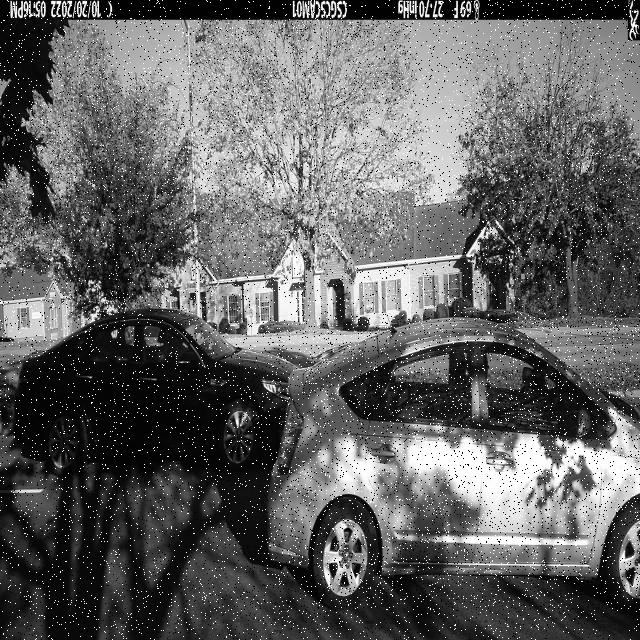Hatchback: (267, 317, 640, 611)
